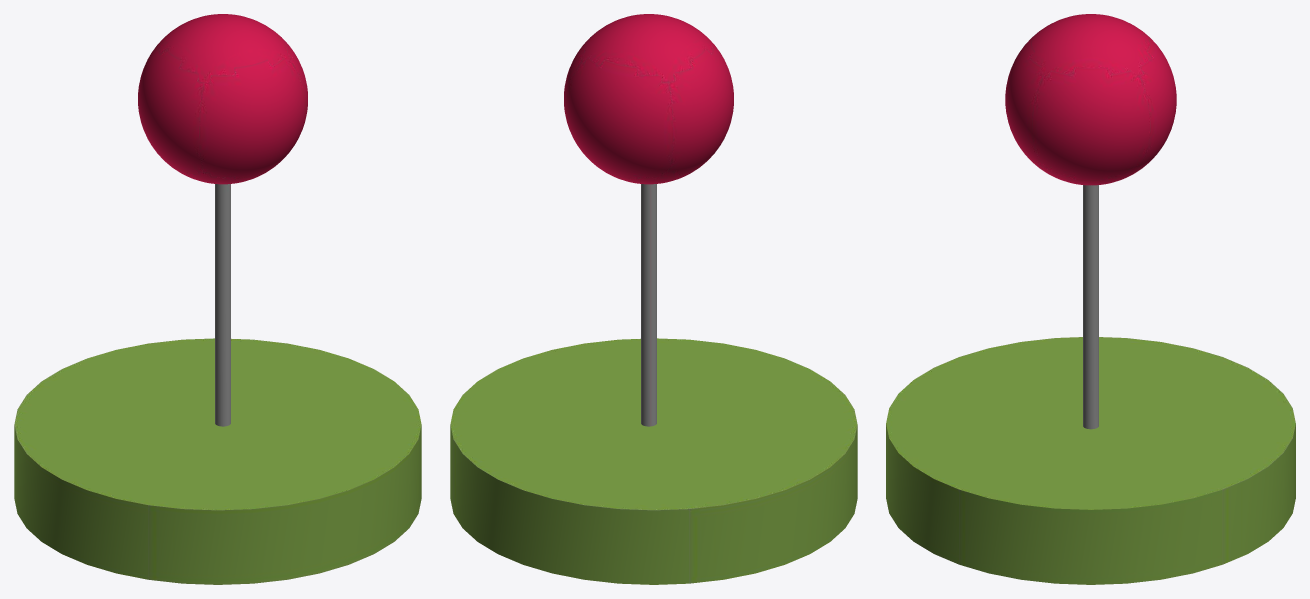
Rendered from Teleportation.glb.
The picture shows the model from 3 angles, left to right: view 1: azimuth 30°, elevation 25°; view 2: azimuth 150°, elevation 25°; view 3: azimuth 270°, elevation 25°; orthographic projection.
Visible parts, largest first — view 1: pin_2_pin_2_0; view 2: pin_2_pin_2_0; view 3: pin_2_pin_2_0.
Part boxes in pixels (bbox=[...]): pin_2_pin_2_0: bbox=[14, 14, 421, 584]; pin_2_pin_2_0: bbox=[450, 14, 857, 584]; pin_2_pin_2_0: bbox=[886, 14, 1295, 584].
Size of the model in its own units: 1.56 by 2.02 by 1.56.
1 material, 1 textured.
